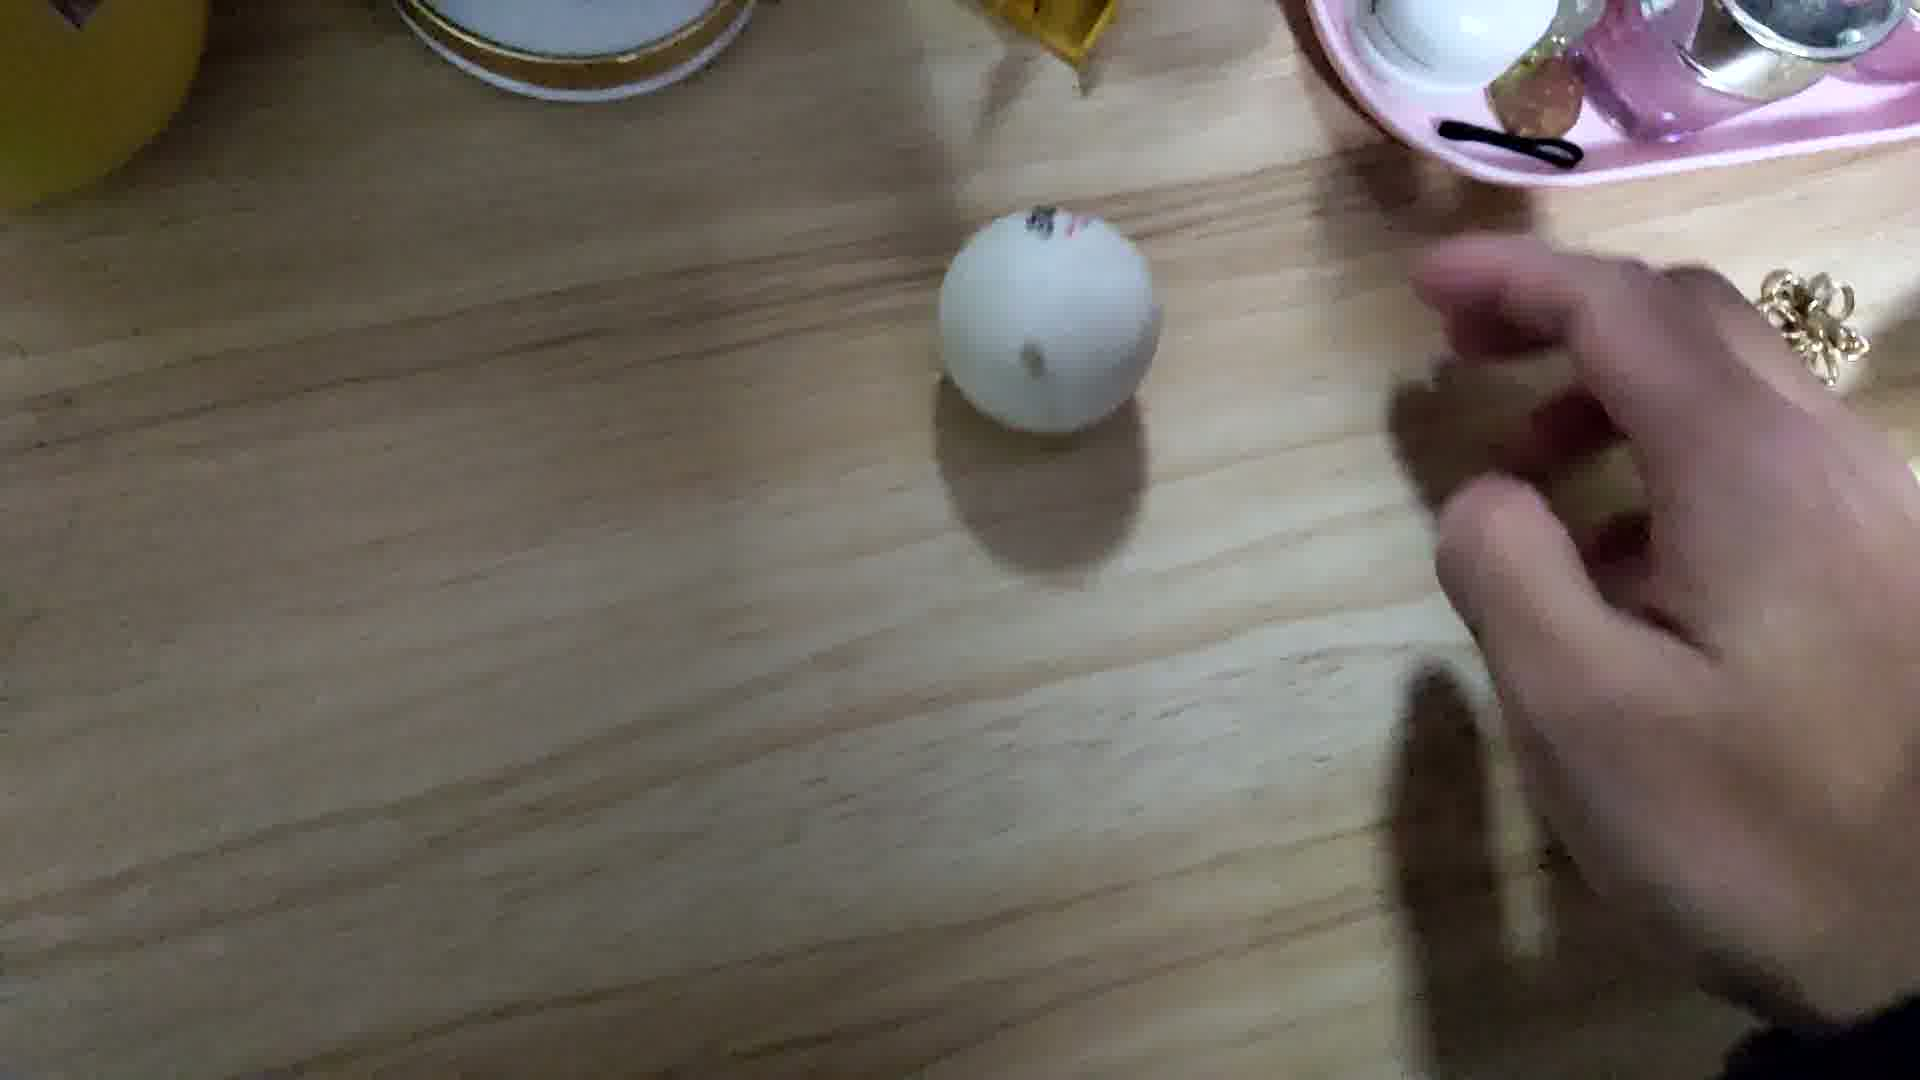Ball: (930, 206, 1175, 435)
